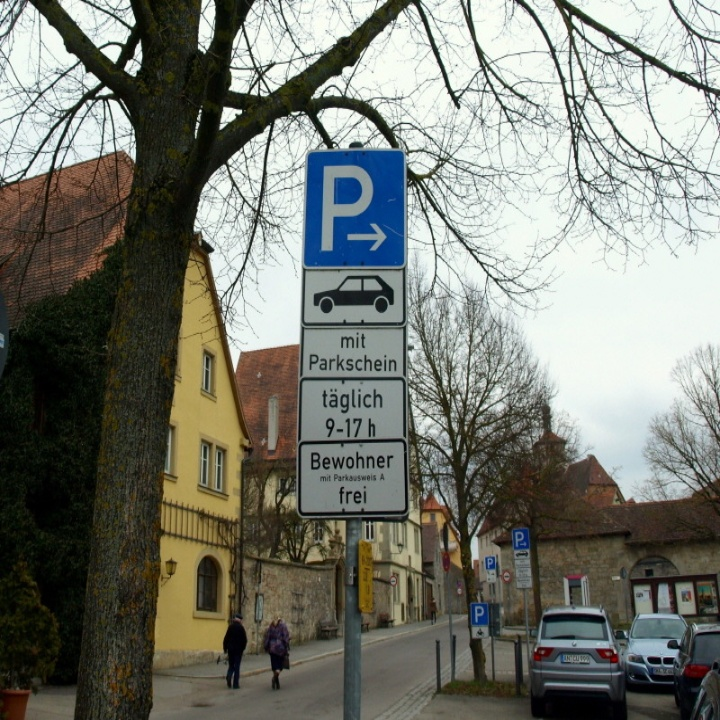parking: (315, 156, 379, 258)
